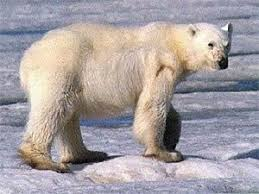PolarBear: (20, 16, 237, 173)
